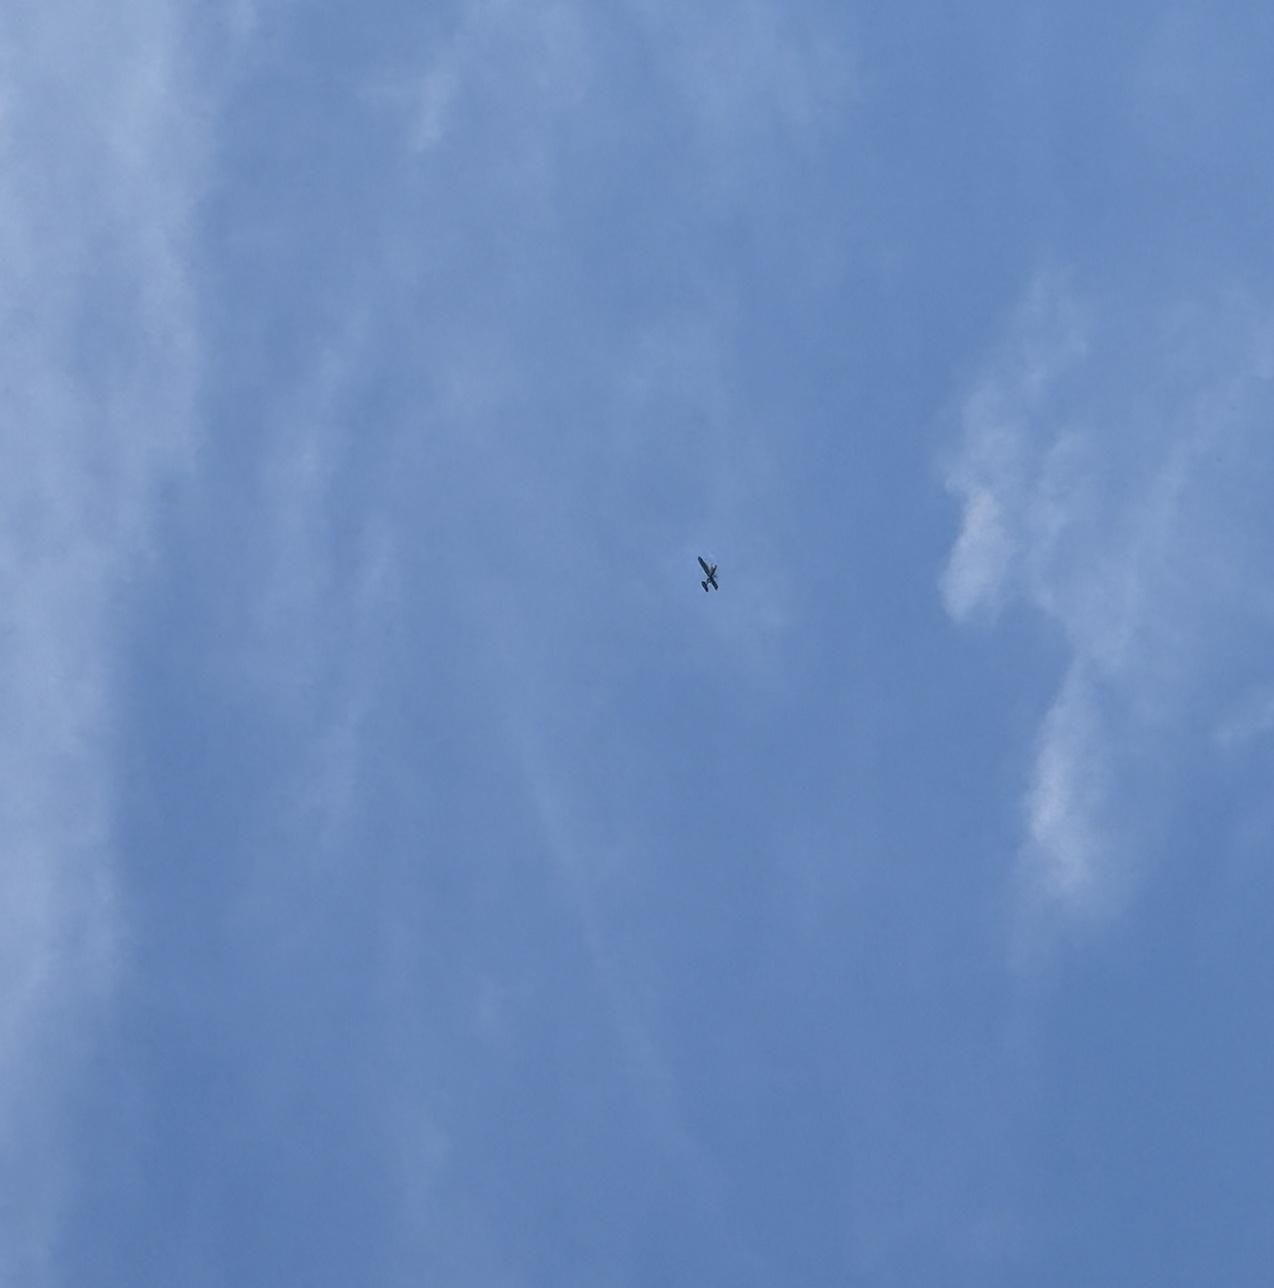Plane: (675, 535, 740, 609)
